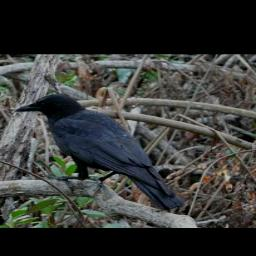Crow: (13, 93, 186, 214)
